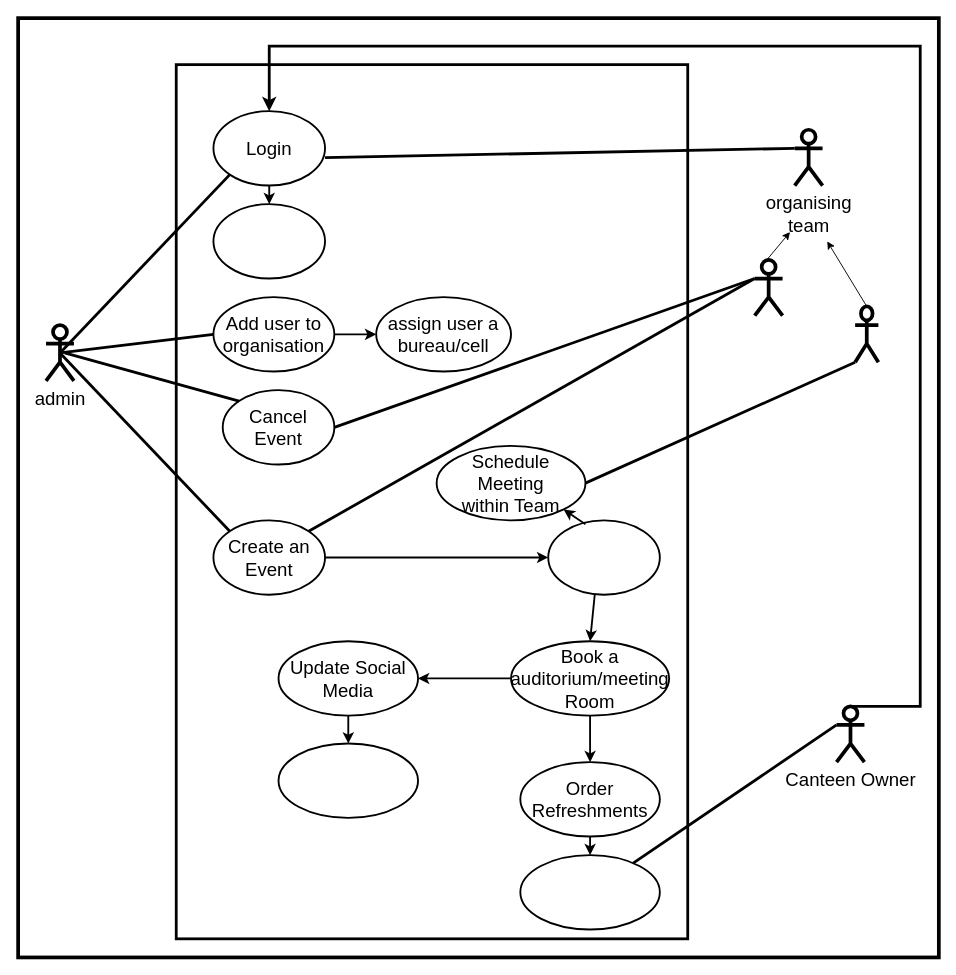
Some shapes in this 956 by 975 pixel diagram are drawn without their labels. The box of each missing label's shape, as (x1, y1, x2, y2) in pixels:
Confirm Order: (519, 854, 660, 930)
Event Manager: (752, 258, 784, 317)
Make a Team: (547, 519, 660, 595)
Make report of the event: (277, 742, 418, 818)
Team Member: (853, 304, 880, 364)
Validate Account: (212, 203, 326, 279)
